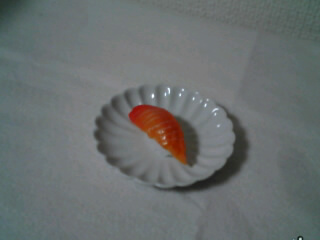002_classes: (128, 102, 193, 167)
